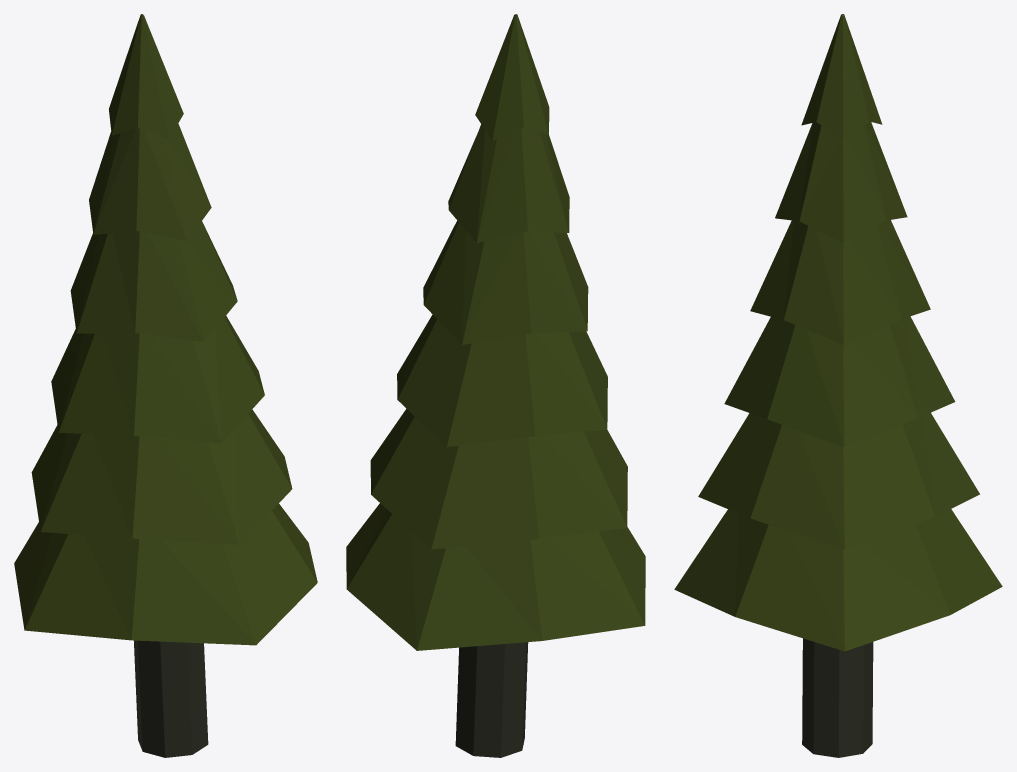
Rendered from long_tree.fbx.
The picture shows the model from 3 angles, left to right: view 1: azimuth 30°, elevation 25°; view 2: azimuth 150°, elevation 25°; view 3: azimuth 270°, elevation 25°; orthographic projection. The views are drawn at different scales.
Visible parts, largest first — view 1: SapinHiver_015_Cylinder_034; view 2: SapinHiver_015_Cylinder_034; view 3: SapinHiver_015_Cylinder_034.
Boxes of the visible parts, x1,y1,x2,y2 form: SapinHiver_015_Cylinder_034: (14,14,317,757); SapinHiver_015_Cylinder_034: (346,14,645,757); SapinHiver_015_Cylinder_034: (674,14,1002,757).
Bounding box in the file's own units: 17.06 × 41.14 × 17.07.
1 material, 1 textured.
